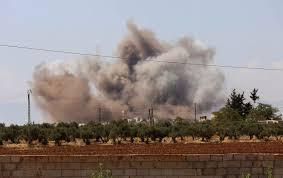smoke: (25, 17, 232, 121)
